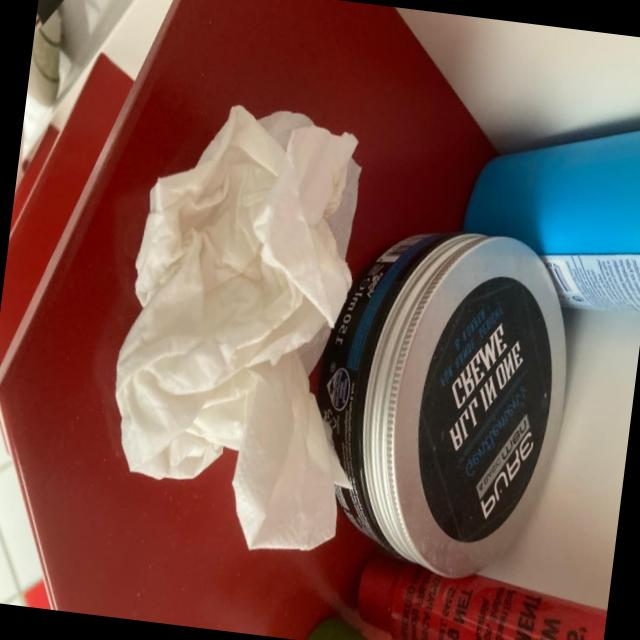organic waste: (96, 88, 397, 564)
